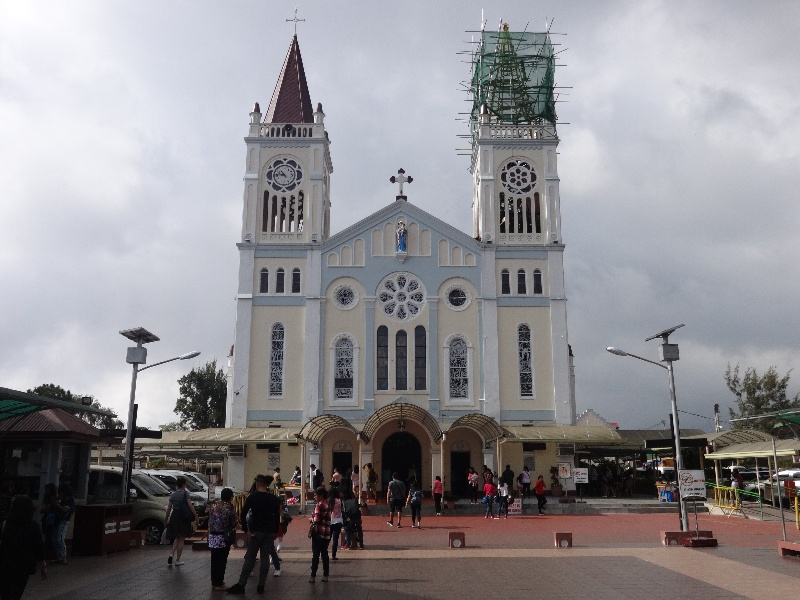Cathedral: (222, 4, 580, 506)
